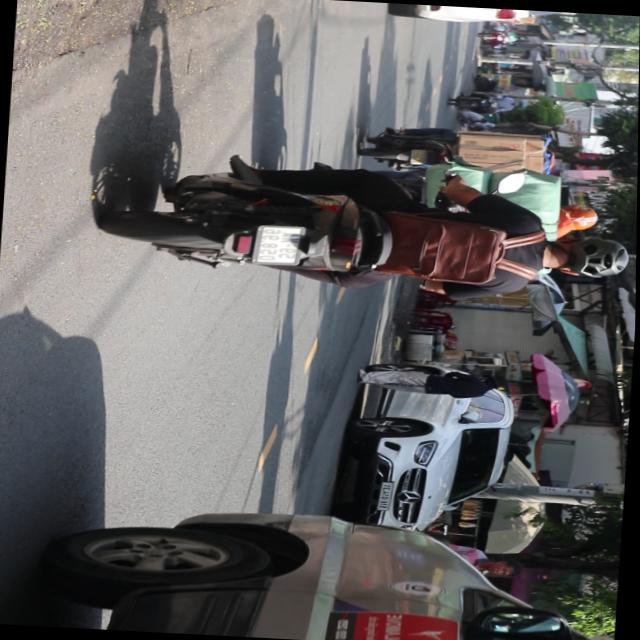helmet: (547, 232, 632, 281), (559, 205, 601, 232)
licenseplate: (101, 147, 638, 313)
nohelmet: (254, 226, 305, 266)
